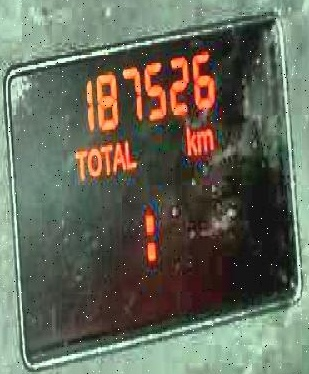1: (82, 69, 96, 134)
2: (168, 51, 188, 118)
5: (143, 58, 165, 120)
6: (192, 45, 216, 114)
7: (120, 63, 143, 123)
8: (96, 67, 117, 127)
X: (142, 202, 158, 267), (123, 136, 137, 169), (87, 145, 101, 176), (195, 127, 213, 151), (73, 145, 85, 180), (101, 140, 112, 178), (111, 140, 124, 171), (184, 123, 195, 154)
